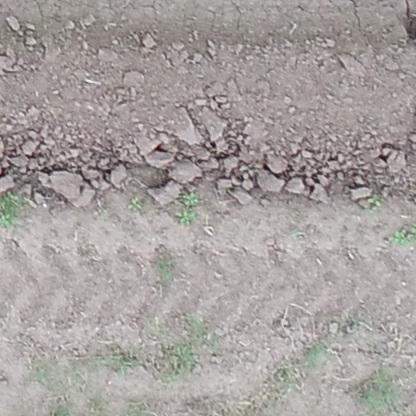vc: (367, 194, 383, 209)
